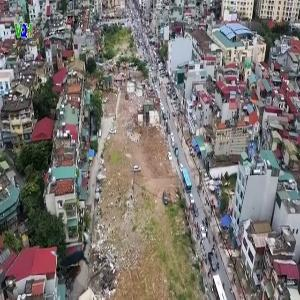drone: (40, 226, 104, 290)
